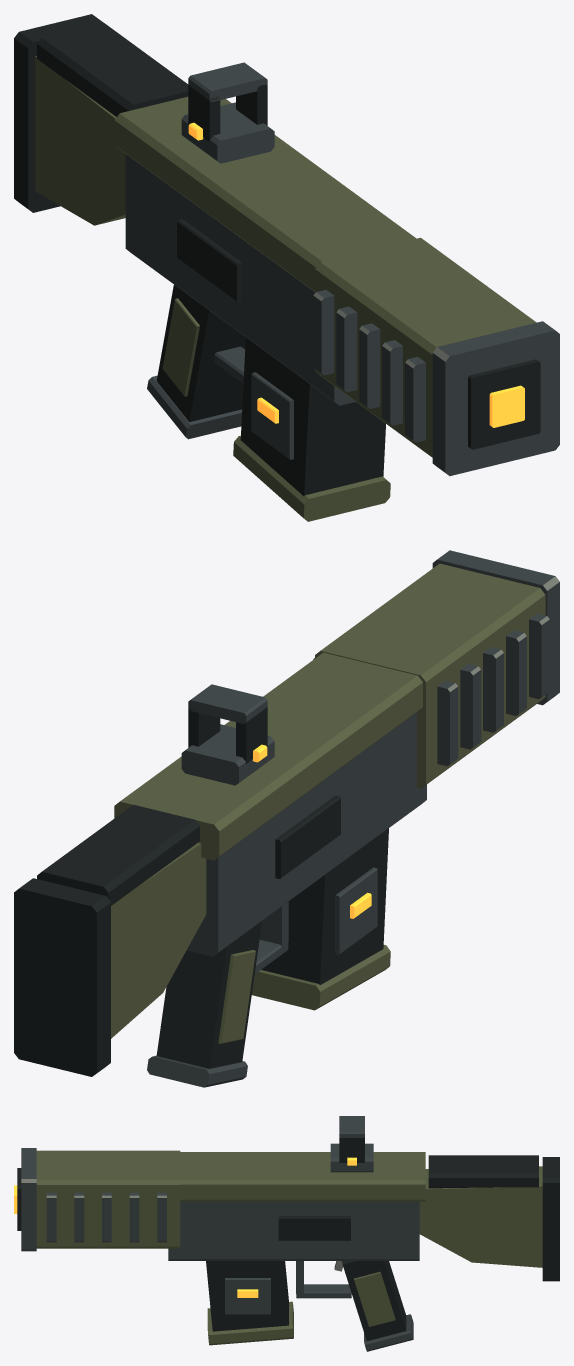
The model's file is LaserRifle.gltf.
3 renders of one model, top to bottom at view 1: azimuth 30°, elevation 25°; view 2: azimuth 150°, elevation 25°; view 3: azimuth 270°, elevation 25°, orthographic. The views are drawn at different scales.
Parts seen in each view (by area): view 1: LaserRifle; view 2: LaserRifle; view 3: LaserRifle.
Part boxes in pixels (x1,y1,x2,y2): LaserRifle: (14, 14, 559, 521); LaserRifle: (14, 550, 559, 1087); LaserRifle: (14, 1116, 559, 1351).
Size of the model in its own units: 0.155 by 0.3955 by 0.8905.
